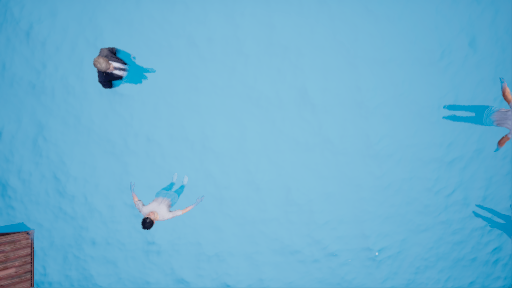person: (128, 176, 204, 234), (90, 44, 159, 103)
